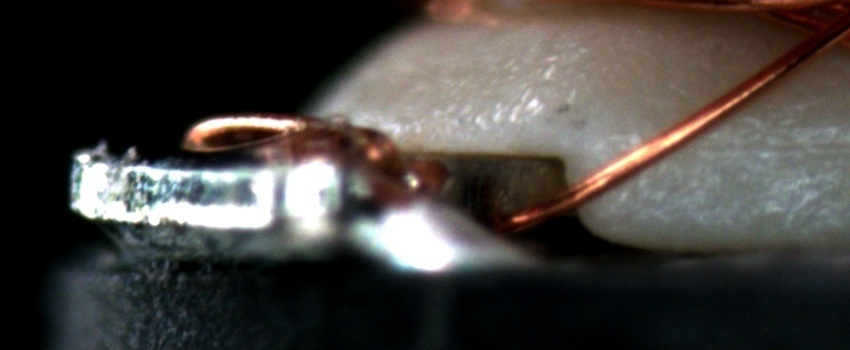CL: (785, 3, 846, 60)
DL: (688, 118, 849, 176)
TE: (177, 101, 332, 148)
